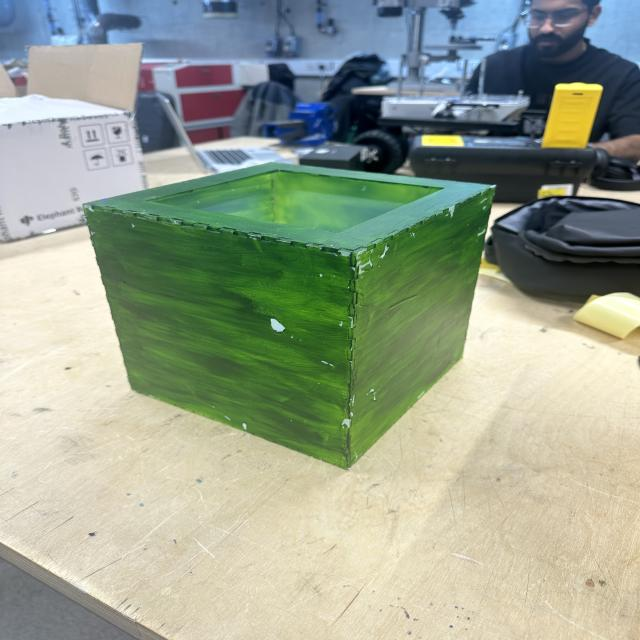green_bin: (80, 162, 498, 471)
